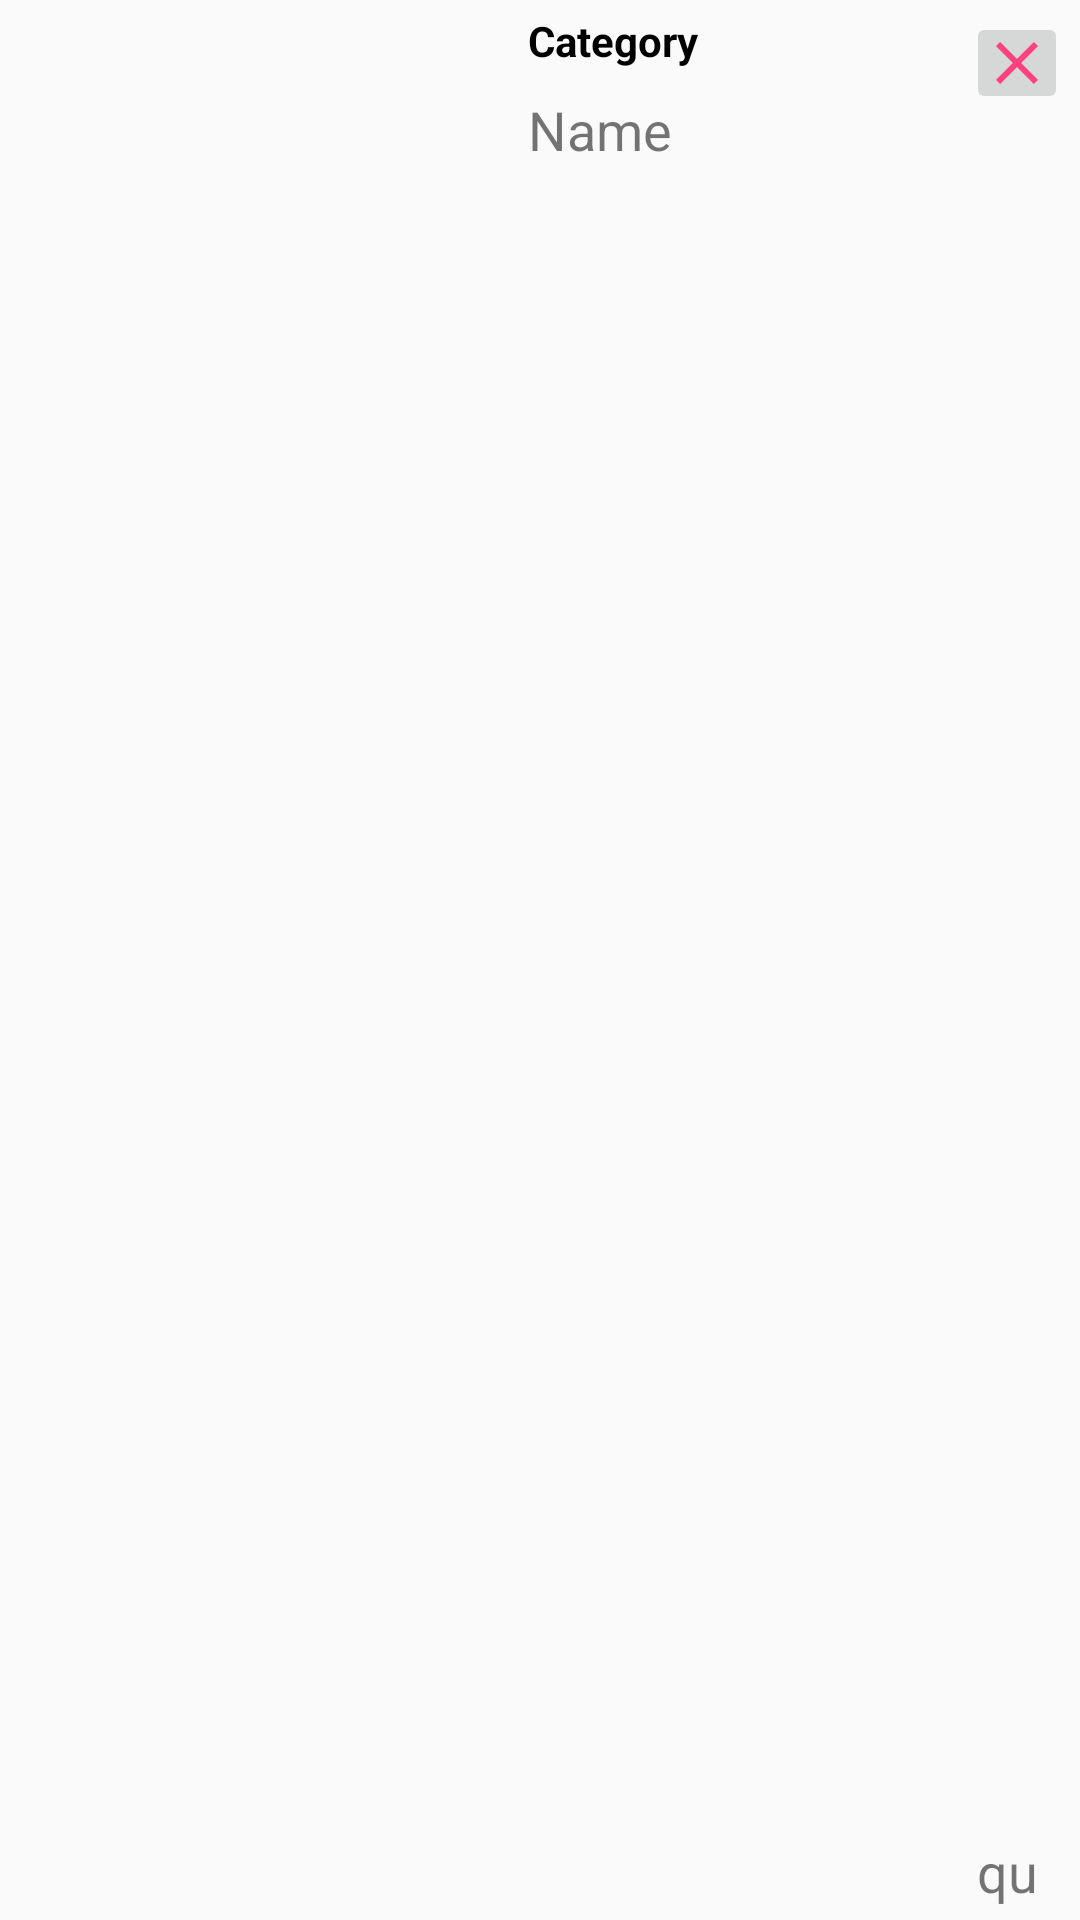

Point at icon controls on the screen. Image size 1080px×1920px, points as [x,y].
remove: [1017,63]
